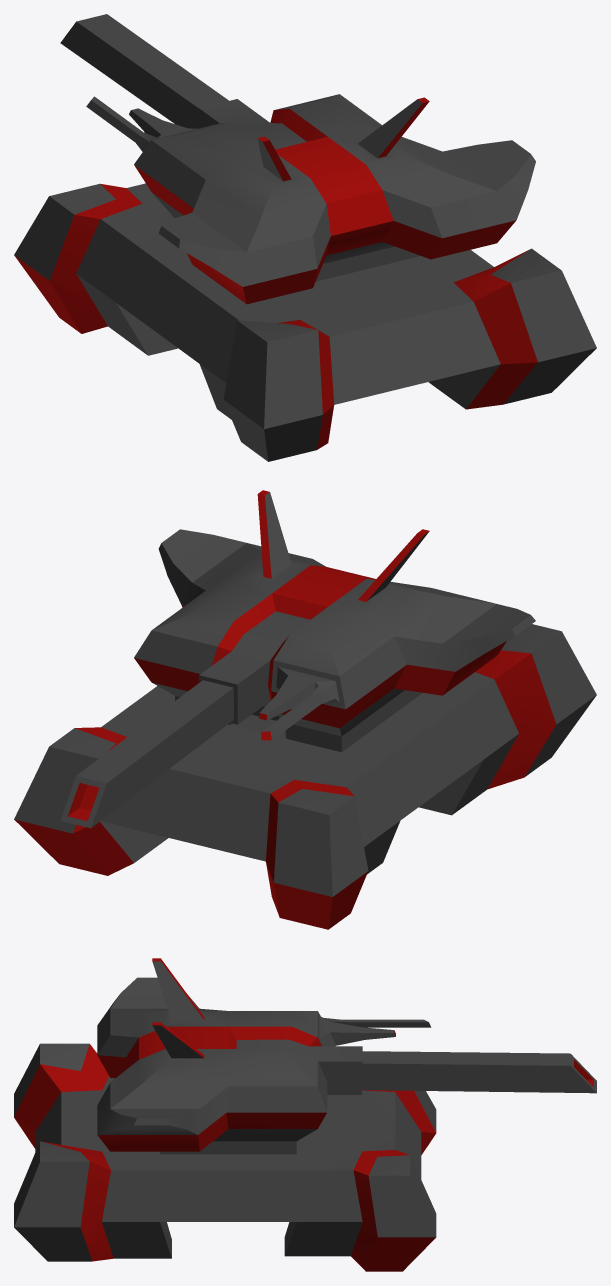
Rendered from drone_tank1.dae.
3 renders of one model, top to bottom at view 1: azimuth 30°, elevation 25°; view 2: azimuth 150°, elevation 25°; view 3: azimuth 270°, elevation 25°, orthographic. The views are drawn at different scales.
Parts seen in each view (by area): view 1: Cube, Cube.001, Cube.003, Cube.002; view 2: Cube, Cube.001, Cube.003, Cube.002; view 3: Cube, Cube.001, Cube.003, Cube.002.
Part boxes in pixels (x1=…): Cube: x1=14, y1=183, x2=596, y2=461; Cube.001: x1=86, y1=94, x2=535, y2=304; Cube.003: x1=60, y1=14, x2=228, y2=128; Cube.002: x1=199, y1=99, x2=306, y2=149; Cube: x1=14, y1=624, x2=596, y2=929; Cube.001: x1=134, y1=490, x2=535, y2=752; Cube.003: x1=60, y1=680, x2=233, y2=828; Cube.002: x1=199, y1=611, x2=309, y2=724; Cube: x1=14, y1=1043, x2=436, y2=1271; Cube.001: x1=97, y1=958, x2=431, y2=1154; Cube.003: x1=362, y1=1051, x2=596, y2=1093; Cube.002: x1=236, y1=1039, x2=362, y2=1094.
Bounding box in the file's own units: 10.04 × 17.29 × 7.39.
